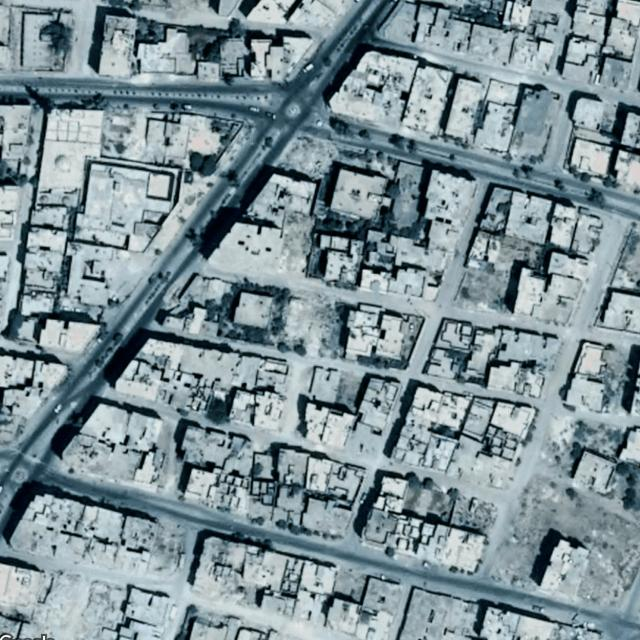damaged_building: (272, 130, 339, 180), (276, 292, 328, 353)
